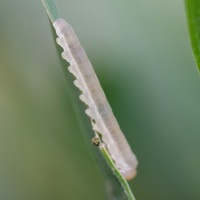insect: (53, 18, 137, 179)
